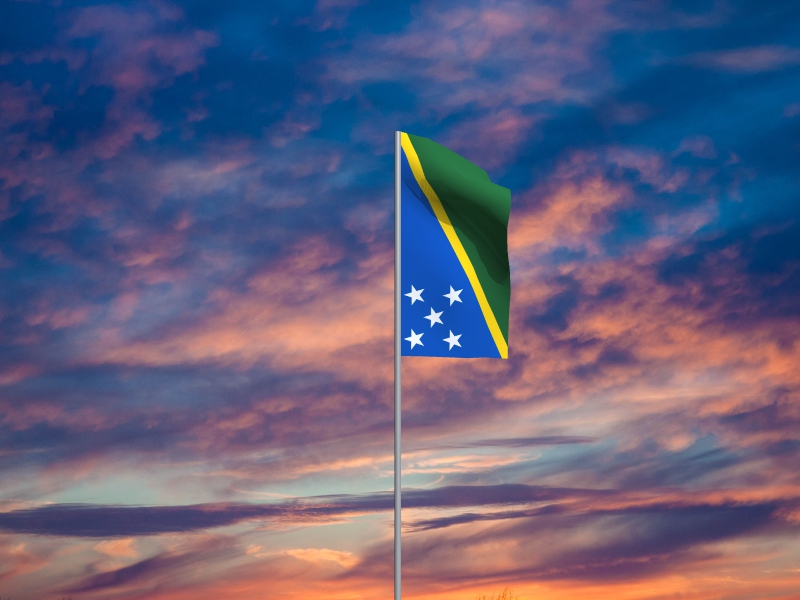sb: (401, 133, 512, 359)
